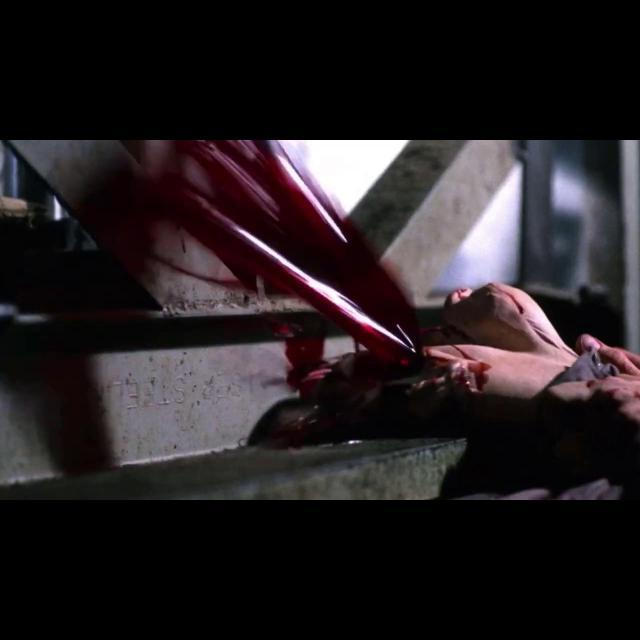blood: (13, 140, 420, 365)
